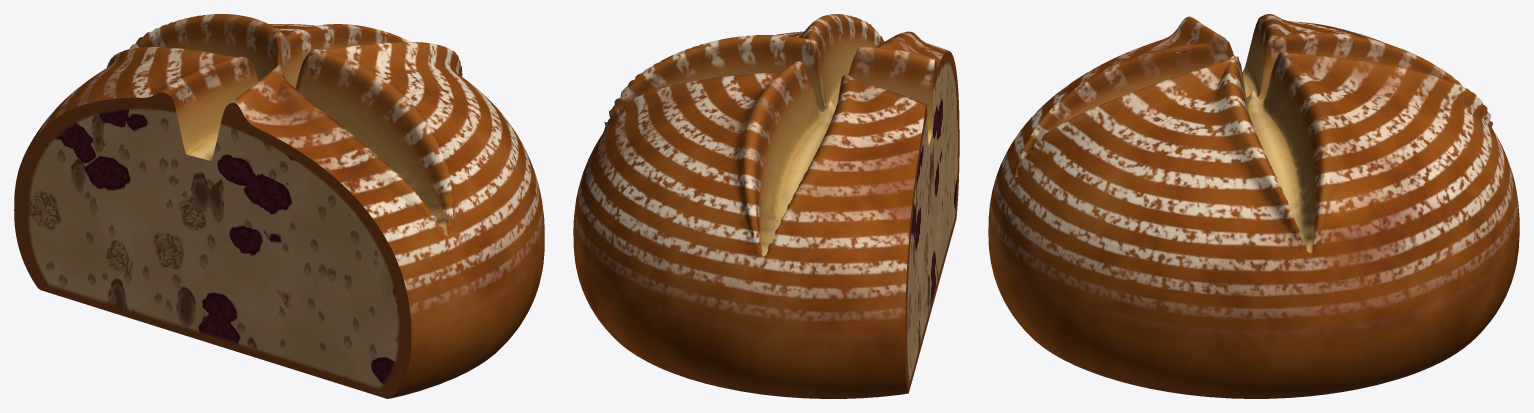
File: campagne--cranberry-dried.glb
The picture shows the model from 3 angles, left to right: view 1: azimuth 30°, elevation 25°; view 2: azimuth 150°, elevation 25°; view 3: azimuth 270°, elevation 25°; orthographic projection. The views are drawn at different scales.
Visible parts, largest first — view 1: campagne_cranberry-dried; view 2: campagne_cranberry-dried; view 3: campagne_cranberry-dried.
Part boxes in pixels (<box>): campagne_cranberry-dried: <box>14,14,544,398</box>; campagne_cranberry-dried: <box>573,14,959,398</box>; campagne_cranberry-dried: <box>988,14,1519,398</box>.
Bounding box in the file's own units: 0.864 × 0.5303 × 0.9991.
Materials: 1 (1 with a texture image).
